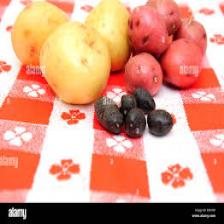Defected potato: (158, 38, 206, 91), (128, 3, 170, 56), (123, 52, 163, 100)
Potato: (38, 19, 114, 108), (10, 0, 74, 73), (82, 0, 134, 77)
